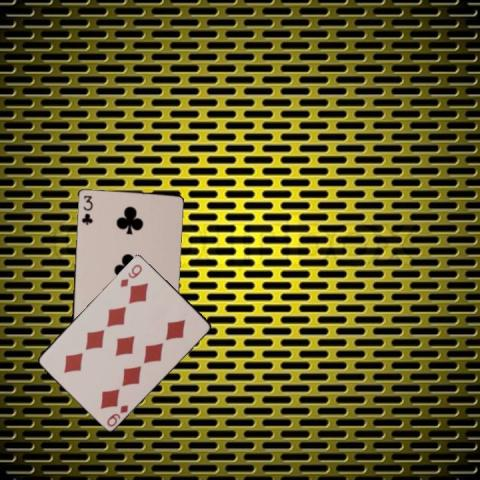3c: (79, 192, 94, 226)
9d: (117, 260, 144, 288), (104, 401, 130, 428)
